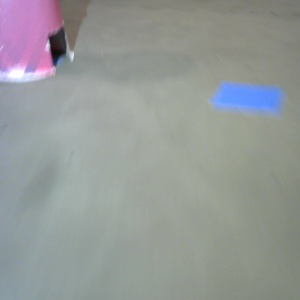middle: (1, 1, 75, 83)
